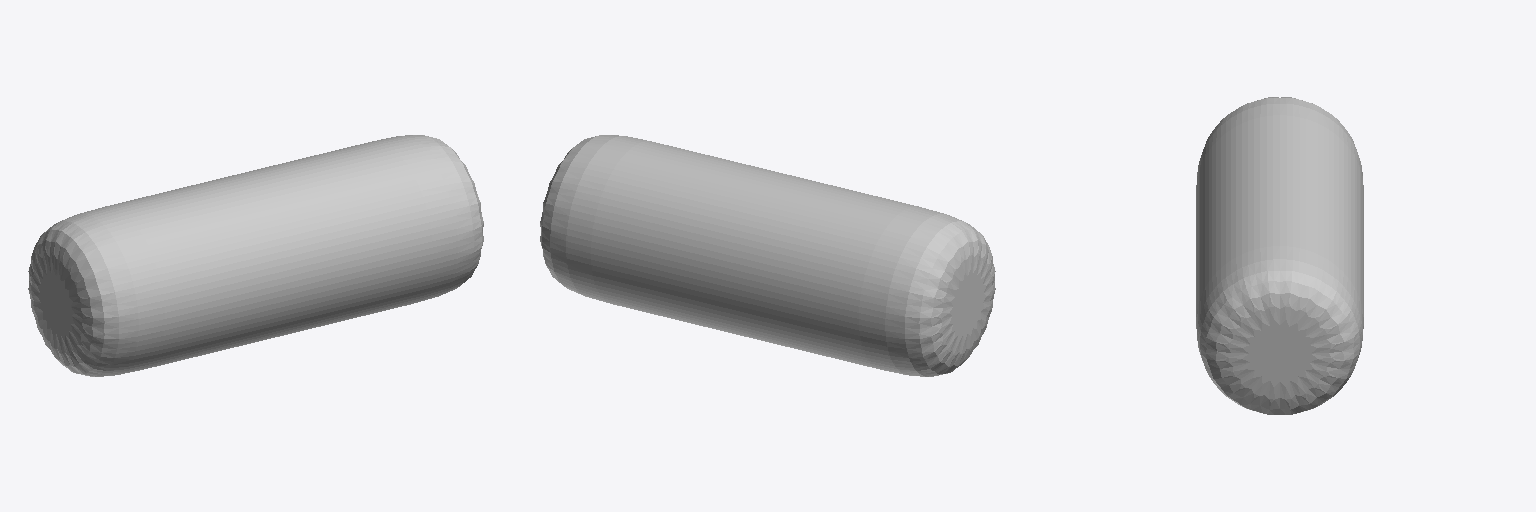
File: ruarm.obj
The picture shows the model from 3 angles: view 1: azimuth 30°, elevation 25°; view 2: azimuth 150°, elevation 25°; view 3: azimuth 270°, elevation 25°; orthographic projection.
Visible parts, largest first — view 1: pCylinder3 group1; view 2: pCylinder3 group1; view 3: pCylinder3 group1.
Boxes of the visible parts, x1=… form: pCylinder3 group1: x1=28, y1=135, x2=483, y2=376; pCylinder3 group1: x1=540, y1=135, x2=995, y2=376; pCylinder3 group1: x1=1196, y1=97, x2=1363, y2=414.
Bounding box in the file's own units: 1.38 × 0.5021 × 0.5021.